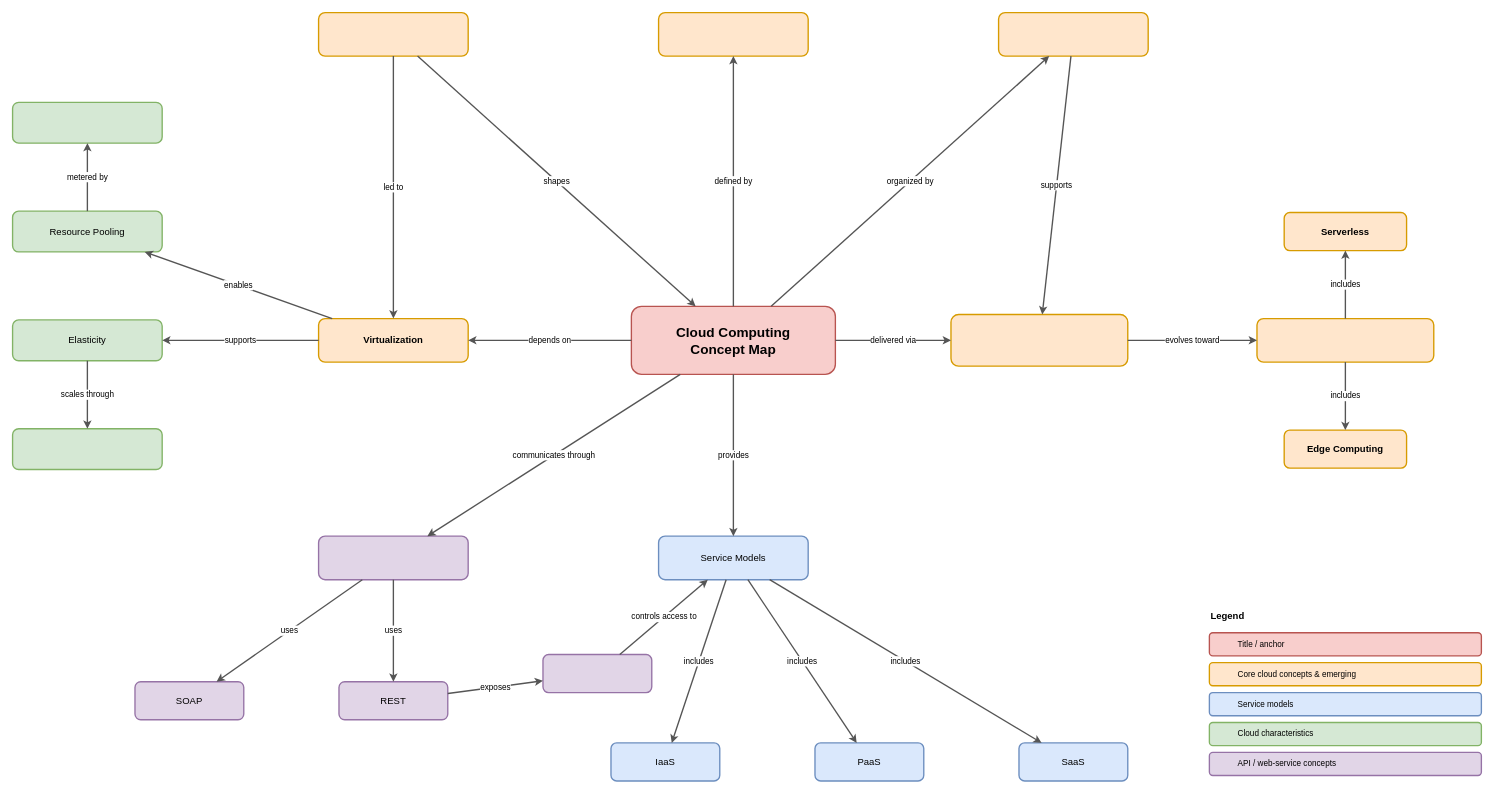
Image size: 1493x793. Some labels were removed from this diagram. Here are the shapes that lost their labels. From the top down, the centre of each, then its label:
(x=393, y=34): Cloud Evolution
(x=733, y=34): Cloud Definition
(x=1073, y=34): Cloud Architecture
(x=87, y=122): Measured Service
(x=1039, y=340): Deployment Models (Public/Private/Hybrid)
(x=1345, y=340): Emerging Paradigms
(x=87, y=449): Scalability
(x=393, y=557): Web Services
(x=597, y=673): APIs
